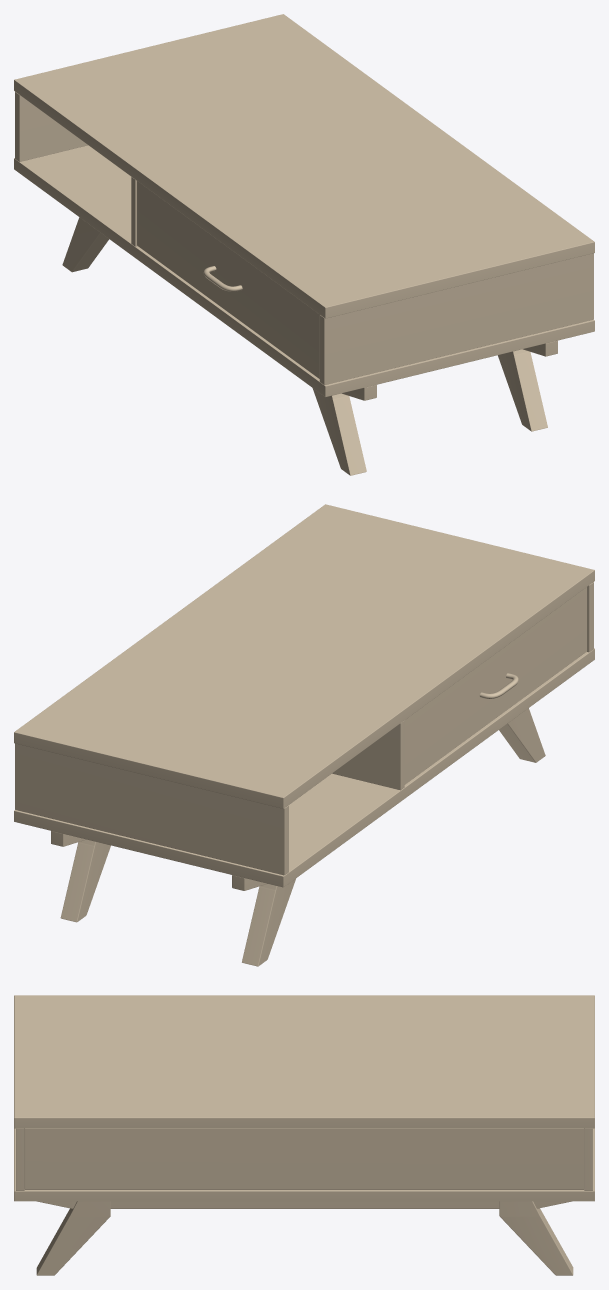
The model's file is table_basse_unity.fbx.
The picture shows the model from 3 angles, top to bottom: view 1: azimuth 30°, elevation 25°; view 2: azimuth 150°, elevation 25°; view 3: azimuth 270°, elevation 25°; orthographic projection. The views are drawn at different scales.
Parts seen in each view (by area): view 1: table_basse_01, tiroire_01; view 2: table_basse_01, tiroire_01; view 3: table_basse_01.
Part boxes in pixels (left/top/right/bottom): table_basse_01: left=14, top=14, right=594, bottom=475; tiroire_01: left=137, top=181, right=319, bottom=378; table_basse_01: left=14, top=504, right=594, bottom=966; tiroire_01: left=404, top=587, right=586, bottom=784; table_basse_01: left=14, top=995, right=594, bottom=1275.
Size of the model in its own units: 63.01 by 39.63 by 120.
